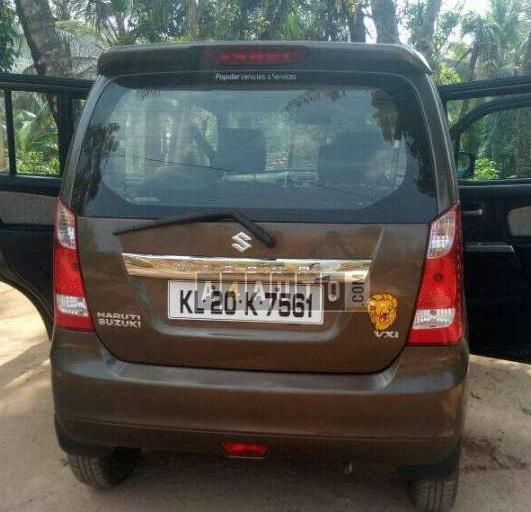licence-plate: (166, 280, 320, 325)
